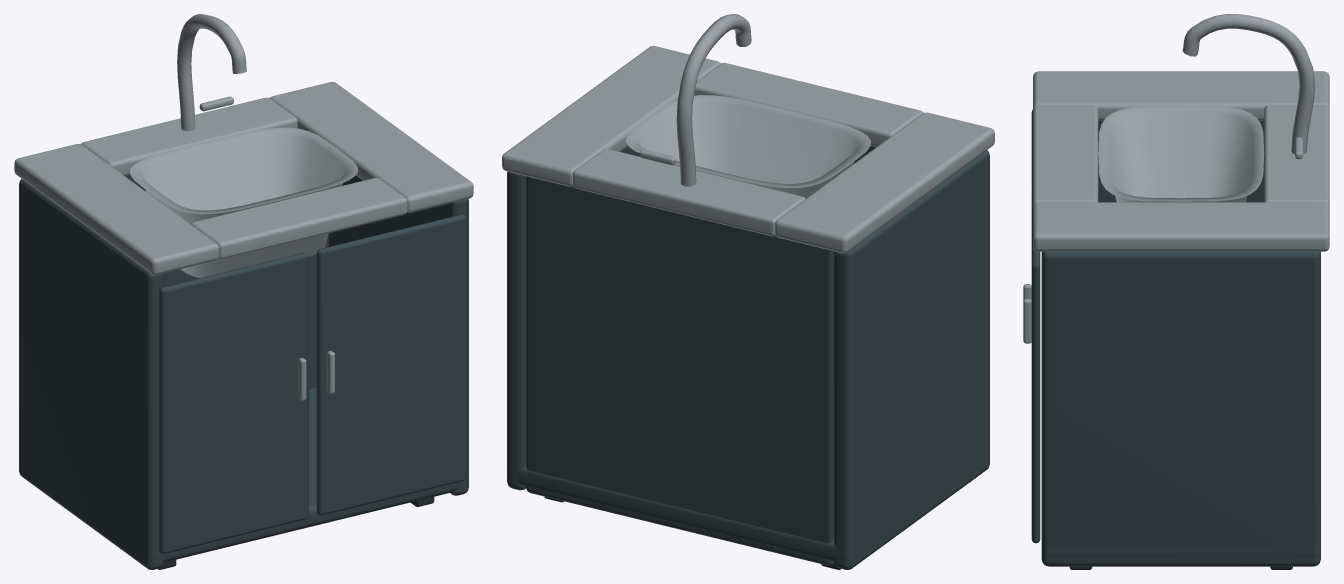
Rendered from HotelTogether-KitchenSink.glb.
3 views of the same model, side by side, from view 1: azimuth 30°, elevation 25°; view 2: azimuth 150°, elevation 25°; view 3: azimuth 270°, elevation 25° (orthographic). The views are drawn at different scales.
Parts seen in each view (by area): view 1: Sink_CabinetSide, Sink_Door.001, Sink_Door, Sink_Basin, Sink_TopSide, Sink_TopSide.001, Sink_TopEdge, Sink_TopEdge.001, Sink_CabinetBottom, Sink_CabinetSide.001, Sink_Faucet, Sink_CabinetBack; view 2: Sink_CabinetBack, Sink_CabinetSide, Sink_Basin, Sink_TopSide, Sink_TopSide.001, Sink_TopEdge.001, Sink_TopEdge, Sink_CabinetSide.001, Sink_CabinetBottom, Sink_Faucet; view 3: Sink_CabinetSide.001, Sink_Basin, Sink_TopSide.001, Sink_TopSide, Sink_TopEdge, Sink_TopEdge.001, Sink_Faucet, Sink_Door.001, Sink_CabinetBottom, Sink_CabinetSide, Sink_Handle.001.
Boxes of the visible parts, x1=… form: Sink_CabinetSide: x1=19, y1=179, x2=164, y2=569; Sink_Door.001: x1=316, y1=214, x2=466, y2=515; Sink_Door: x1=159, y1=253, x2=308, y2=553; Sink_Basin: x1=130, y1=127, x2=357, y2=278; Sink_TopSide: x1=14, y1=144, x2=218, y2=274; Sink_TopSide.001: x1=269, y1=82, x2=473, y2=212; Sink_TopEdge: x1=190, y1=177, x2=407, y2=259; Sink_TopEdge.001: x1=81, y1=97, x2=297, y2=175; Sink_CabinetBottom: x1=148, y1=387, x2=468, y2=562; Sink_CabinetSide.001: x1=329, y1=175, x2=468, y2=495; Sink_Faucet: x1=177, y1=14, x2=246, y2=131; Sink_CabinetBack: x1=125, y1=175, x2=328, y2=389; Sink_CabinetBack: x1=526, y1=176, x2=834, y2=565; Sink_CabinetSide: x1=834, y1=150, x2=989, y2=569; Sink_Basin: x1=626, y1=95, x2=870, y2=198; Sink_TopSide: x1=775, y1=112, x2=994, y2=253; Sink_TopSide.001: x1=502, y1=46, x2=720, y2=186; Sink_TopEdge.001: x1=573, y1=149, x2=805, y2=236; Sink_TopEdge: x1=694, y1=62, x2=923, y2=146; Sink_CabinetSide.001: x1=507, y1=146, x2=639, y2=490; Sink_CabinetBottom: x1=507, y1=465, x2=852, y2=561; Sink_Faucet: x1=676, y1=14, x2=751, y2=186; Sink_CabinetSide.001: x1=1041, y1=251, x2=1320, y2=566; Sink_Basin: x1=1098, y1=105, x2=1264, y2=202; Sink_TopSide.001: x1=1033, y1=202, x2=1329, y2=251; Sink_TopSide: x1=1033, y1=71, x2=1329, y2=120; Sink_TopEdge: x1=1033, y1=105, x2=1098, y2=206; Sink_TopEdge.001: x1=1264, y1=105, x2=1329, y2=206; Sink_Faucet: x1=1182, y1=14, x2=1315, y2=154; Sink_Door.001: x1=1031, y1=191, x2=1040, y2=543; Sink_CabinetBottom: x1=1041, y1=546, x2=1320, y2=557; Sink_CabinetSide: x1=1098, y1=120, x2=1264, y2=202; Sink_Handle.001: x1=1023, y1=299, x2=1031, y2=343.
Bounding box in the file's own units: 0.9 × 1.23 × 0.702.
